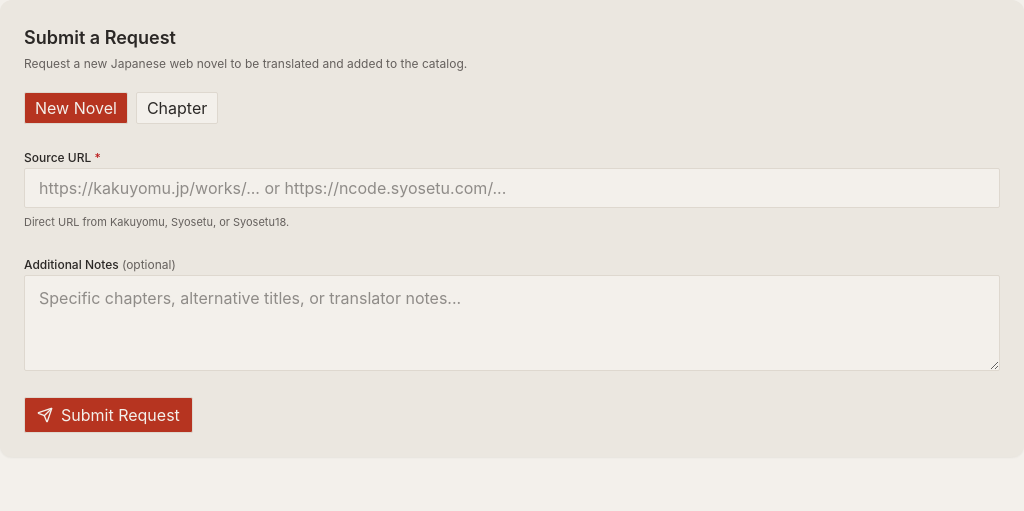
Test: public engagement UI › creates an authenticated novel request and shows success confirmation
Type "https://example.com/novel" into the field with placeholder "syosetu" at (512,188), box top-left (24, 168), bottom-right (1000, 208)
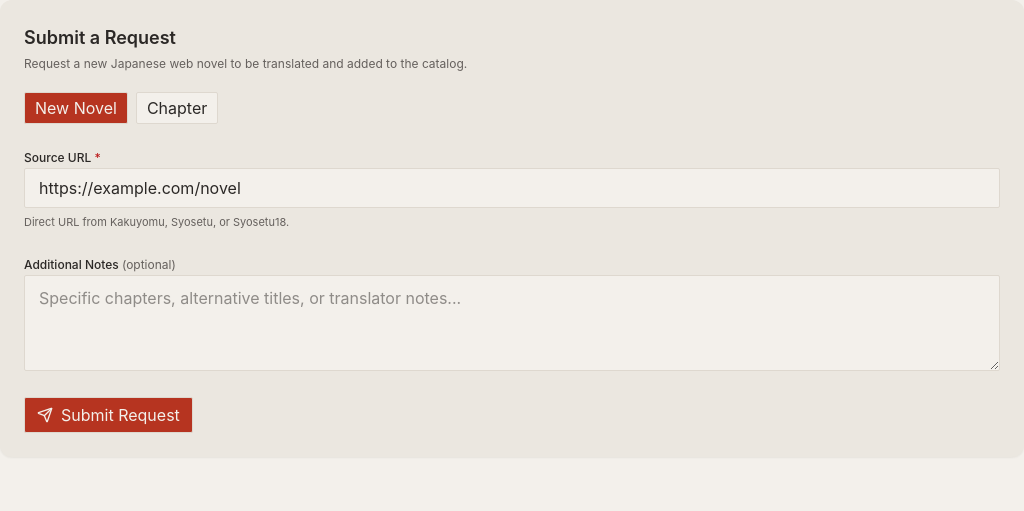
Click the button "Submit Request" at (108,414), box top-left (24, 396), bottom-right (193, 432)
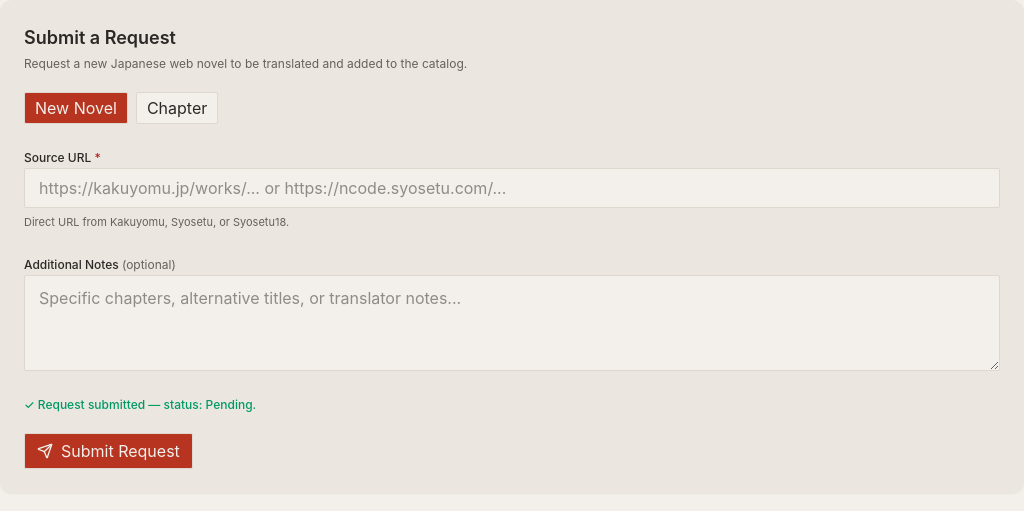
Now the text "✓ Request submitted — status: Pending." is shown, box top-left (24, 396), bottom-right (256, 412)
